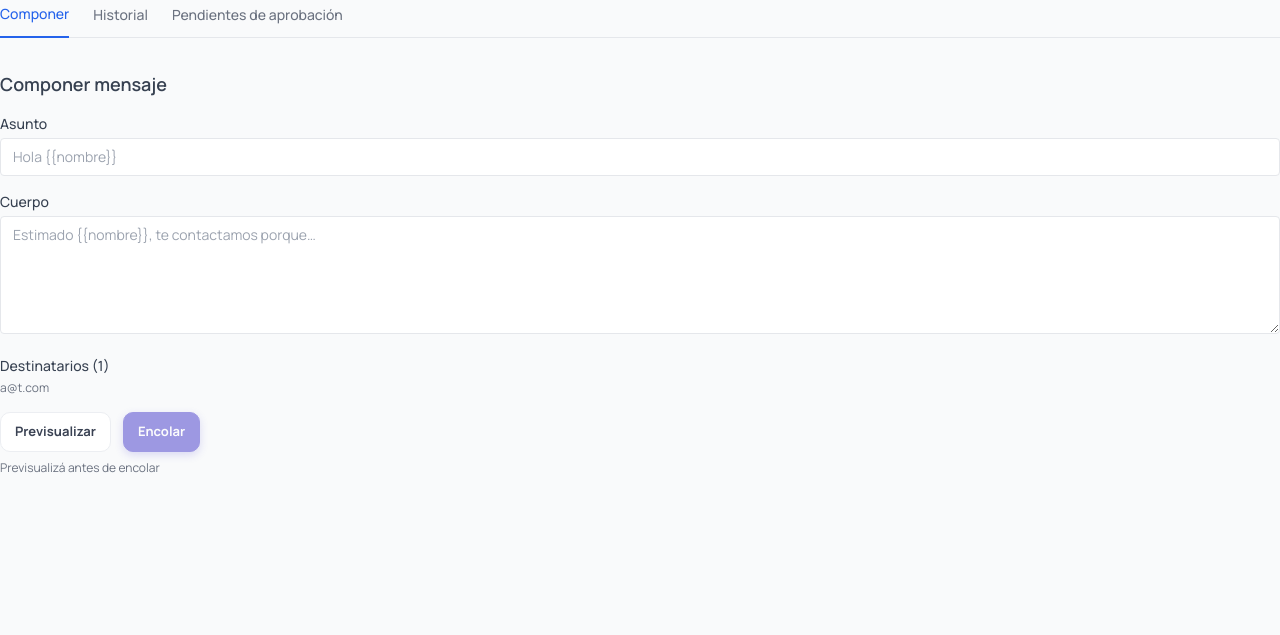
Test: ComunicacionesPage › shows lote bandeja after successful encolar
The width and height of the screenshot is (1280, 635).
In the field with test id "asunto-input": point(640, 157) [0,138,1279,176], type "Hola"
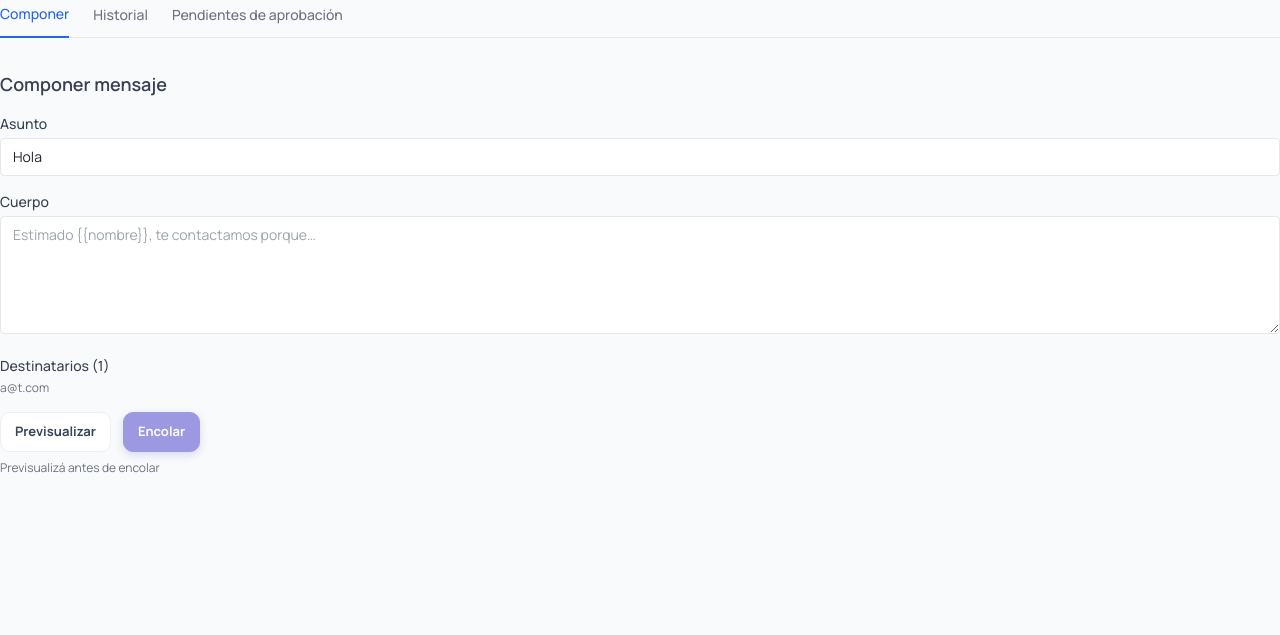
In the text box with test id "cuerpo-input": point(640, 275) [0,216,1279,334], type "Texto"
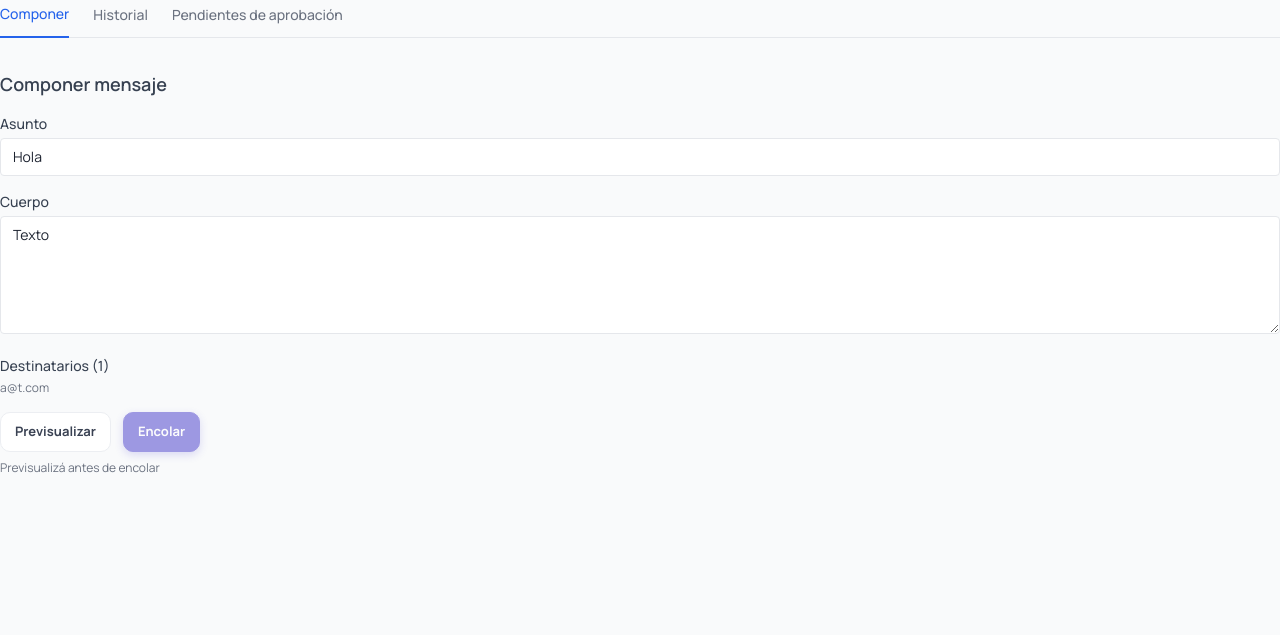
# RN-16: preview must be confirmed before encolar is enabled
Click the button with test id "preview-btn": point(55, 432) [0,412,111,452]
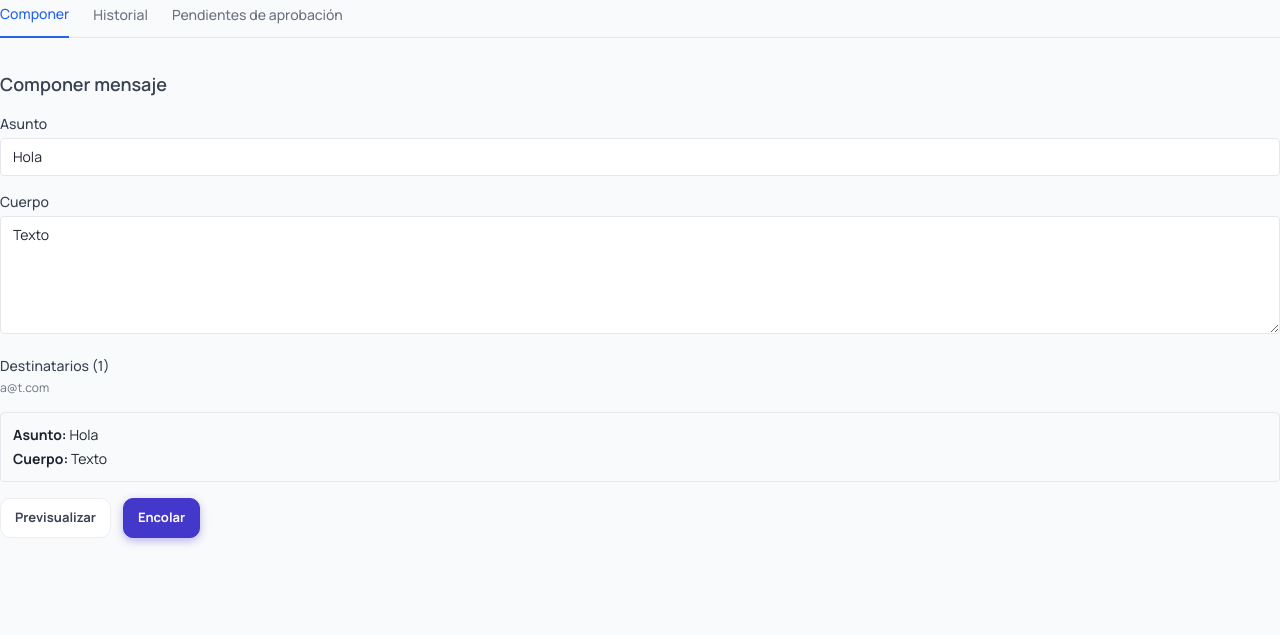
Check: the button with test id "encolar-btn" is enabled
Click the button with test id "encolar-btn": point(162, 518) [123,498,200,538]
(page scrolled)
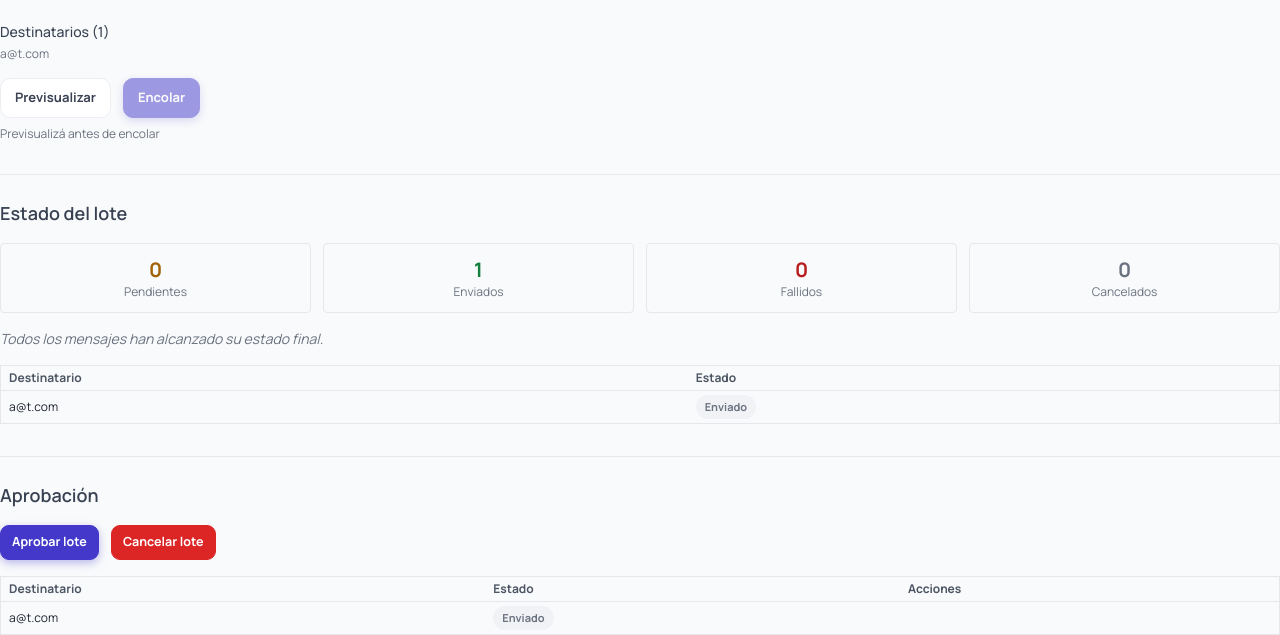
Check: the element with test id "lote-bandeja" is shown, box [0,243,1279,424]
